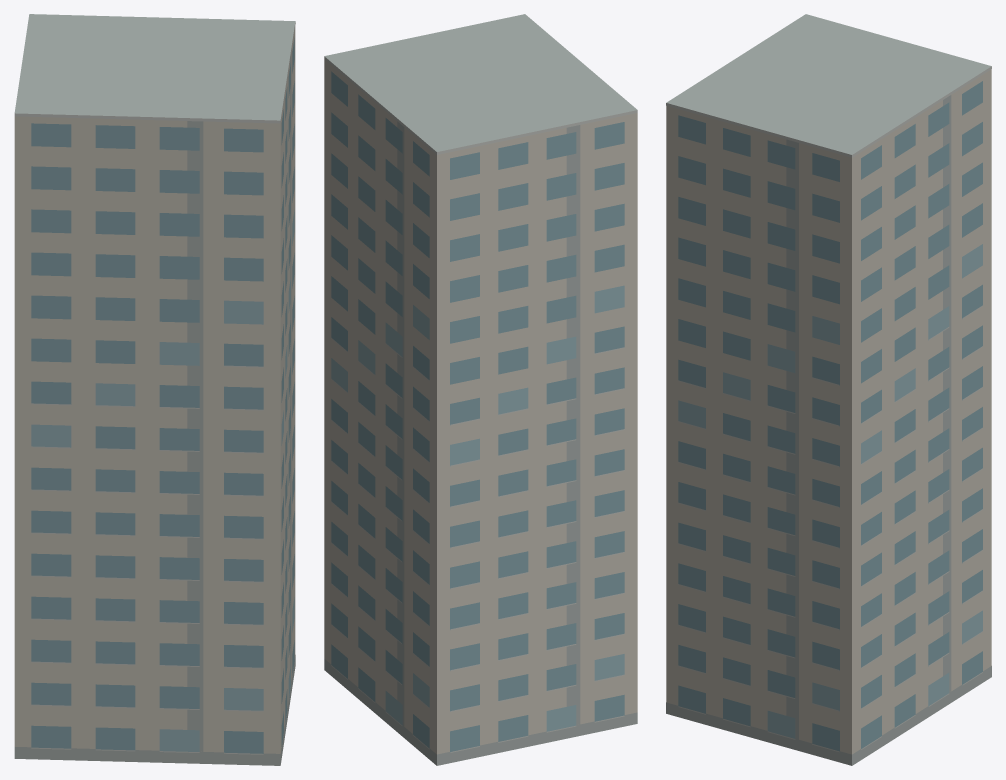
File: residential-861e01dc-ee1a-4dbb-8add-3085a2830992.glb
3 views of the same model, side by side, from view 1: azimuth 30°, elevation 25°; view 2: azimuth 150°, elevation 25°; view 3: azimuth 270°, elevation 25° (orthographic). The views are drawn at different scales.
Parts seen in each view (by area): view 1: residential-861e01dc-ee1a-4dbb-8add-3085a2830992.tmp; view 2: residential-861e01dc-ee1a-4dbb-8add-3085a2830992.tmp; view 3: residential-861e01dc-ee1a-4dbb-8add-3085a2830992.tmp.
Boxes of the visible parts, bbox=[...] form: residential-861e01dc-ee1a-4dbb-8add-3085a2830992.tmp: bbox=[14, 14, 295, 765]; residential-861e01dc-ee1a-4dbb-8add-3085a2830992.tmp: bbox=[324, 14, 637, 765]; residential-861e01dc-ee1a-4dbb-8add-3085a2830992.tmp: bbox=[666, 14, 991, 765].
Bounding box in the file's own units: 26.25 × 53 × 25.61.
